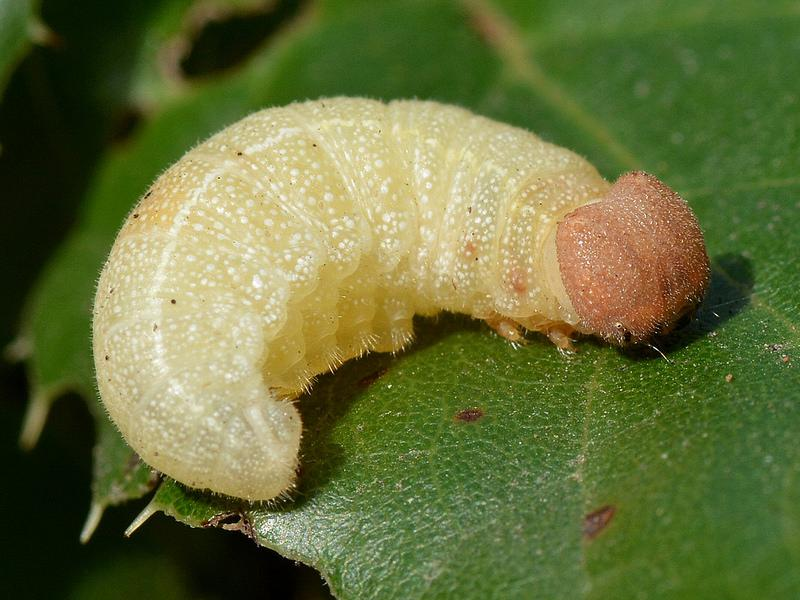grub: (89, 91, 713, 503)
